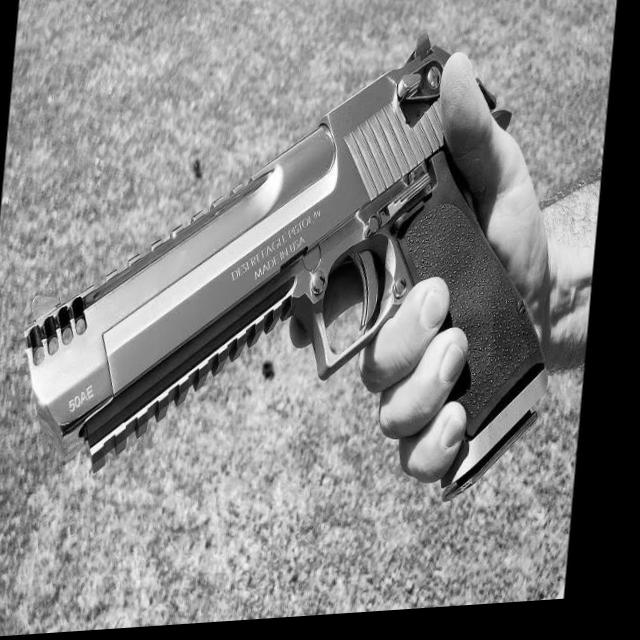handgun: (8, 15, 588, 544)
